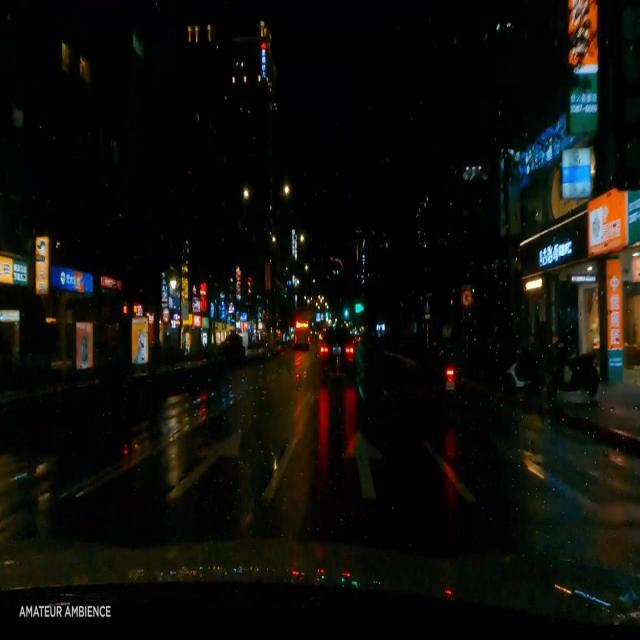Car: (317, 329, 354, 378)
